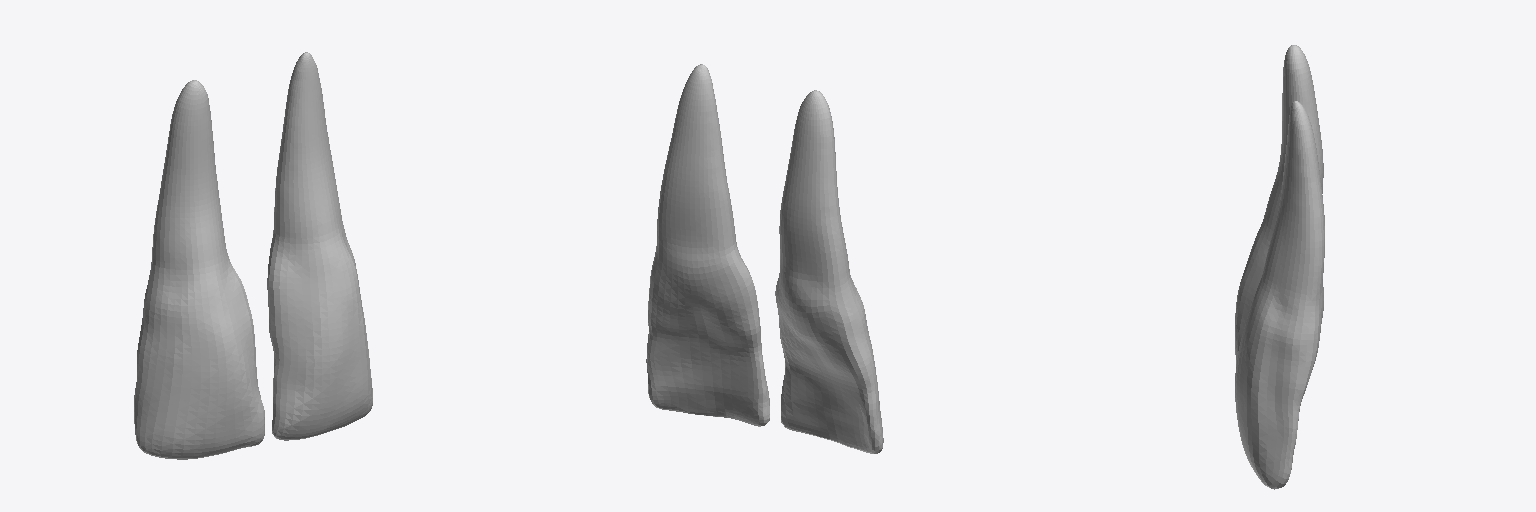
The model's file is Upper_incisors01.obj.
3 views of the same model, side by side, from view 1: azimuth 30°, elevation 25°; view 2: azimuth 150°, elevation 25°; view 3: azimuth 270°, elevation 25° (orthographic).
Parts seen in each view (by area): view 1: ZBrush_defualt_group; view 2: ZBrush_defualt_group; view 3: ZBrush_defualt_group.
Part boxes in pixels (x1,y1,x2,y2): ZBrush_defualt_group: (134, 52, 372, 459); ZBrush_defualt_group: (646, 64, 883, 453); ZBrush_defualt_group: (1235, 45, 1324, 489).
Bounding box in the file's own units: 0.2252 × 0.3393 × 0.0762.